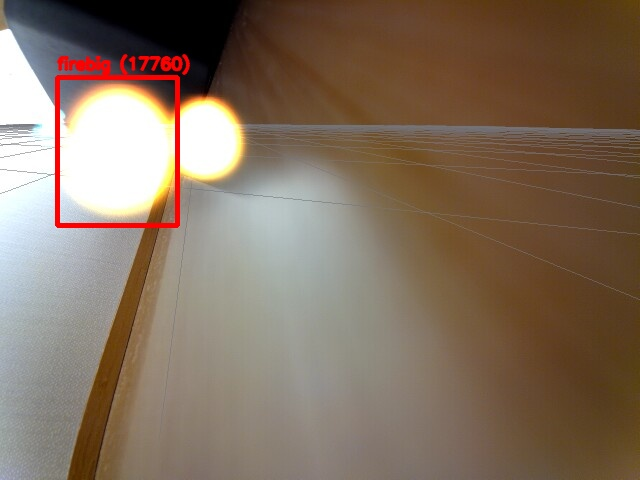firebig: (57, 77, 177, 225)
